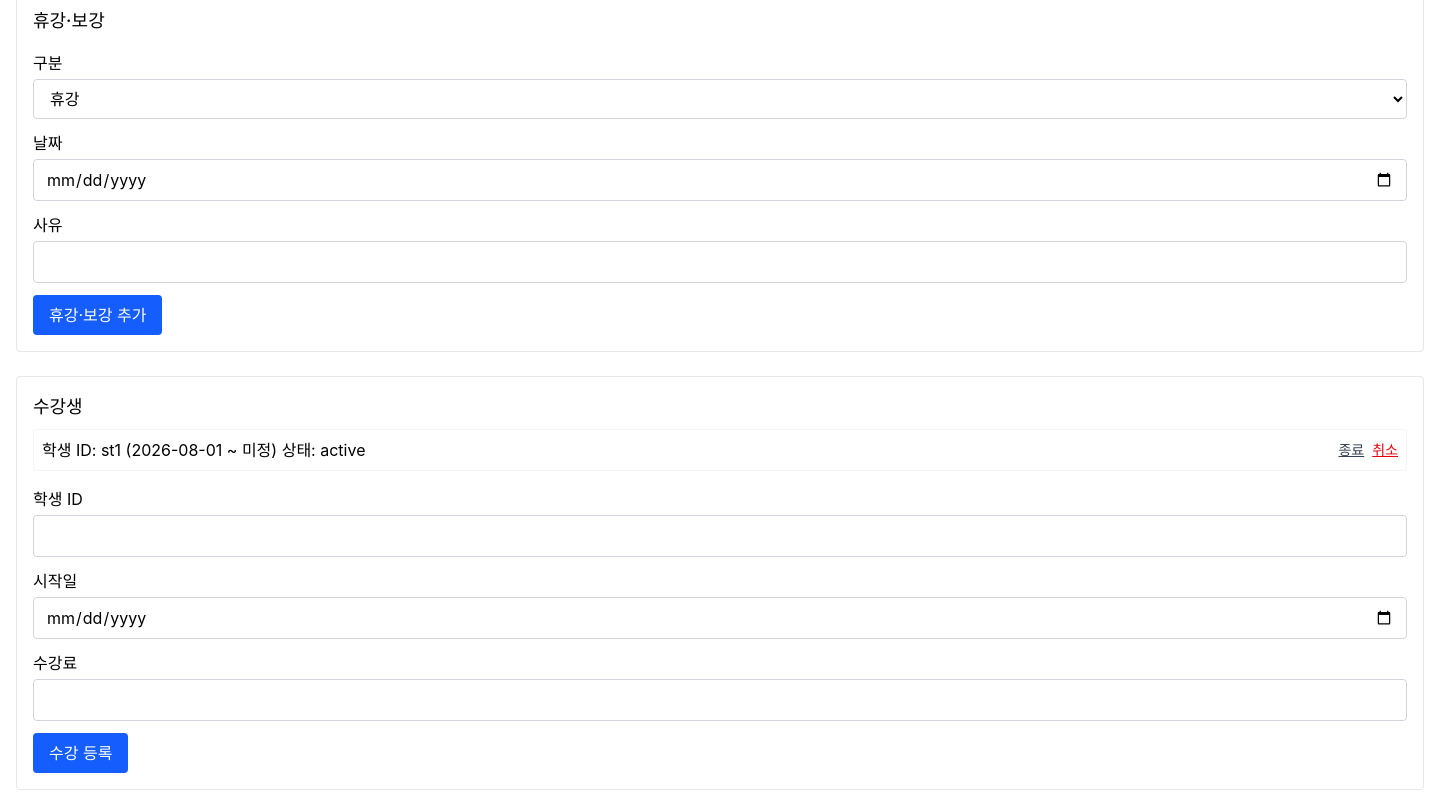
Test: CourseDetailPage › shows a PERIOD_OVERLAP conflict and resubmits with confirmOverlap on 그래도 등록
(page scrolled)
Type "st2" into the field labelled "학생 ID" at (720, 536), box [33, 515, 1407, 557]
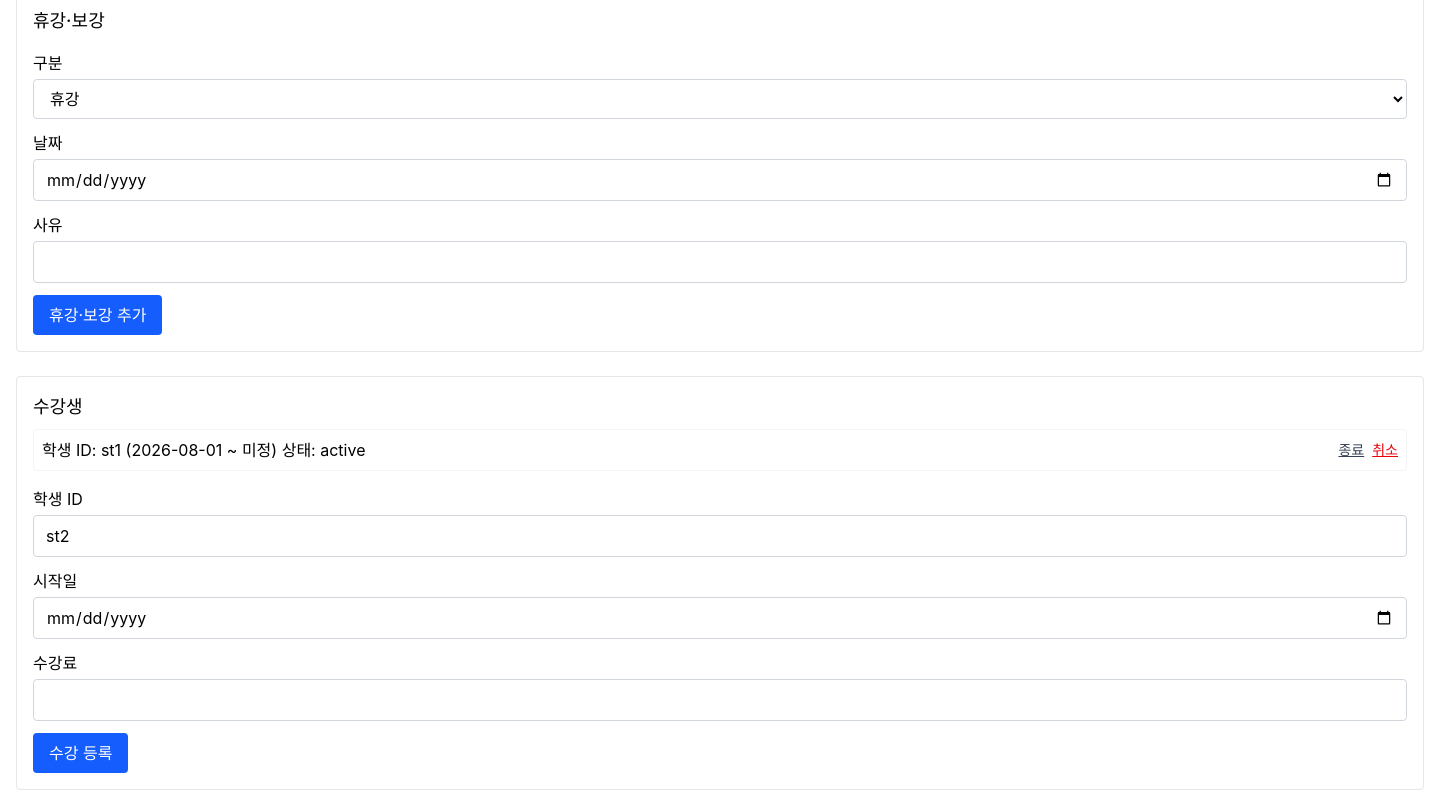
Type "2026-09-01" into the date field labelled "시작일" at (720, 618), box [33, 597, 1407, 639]
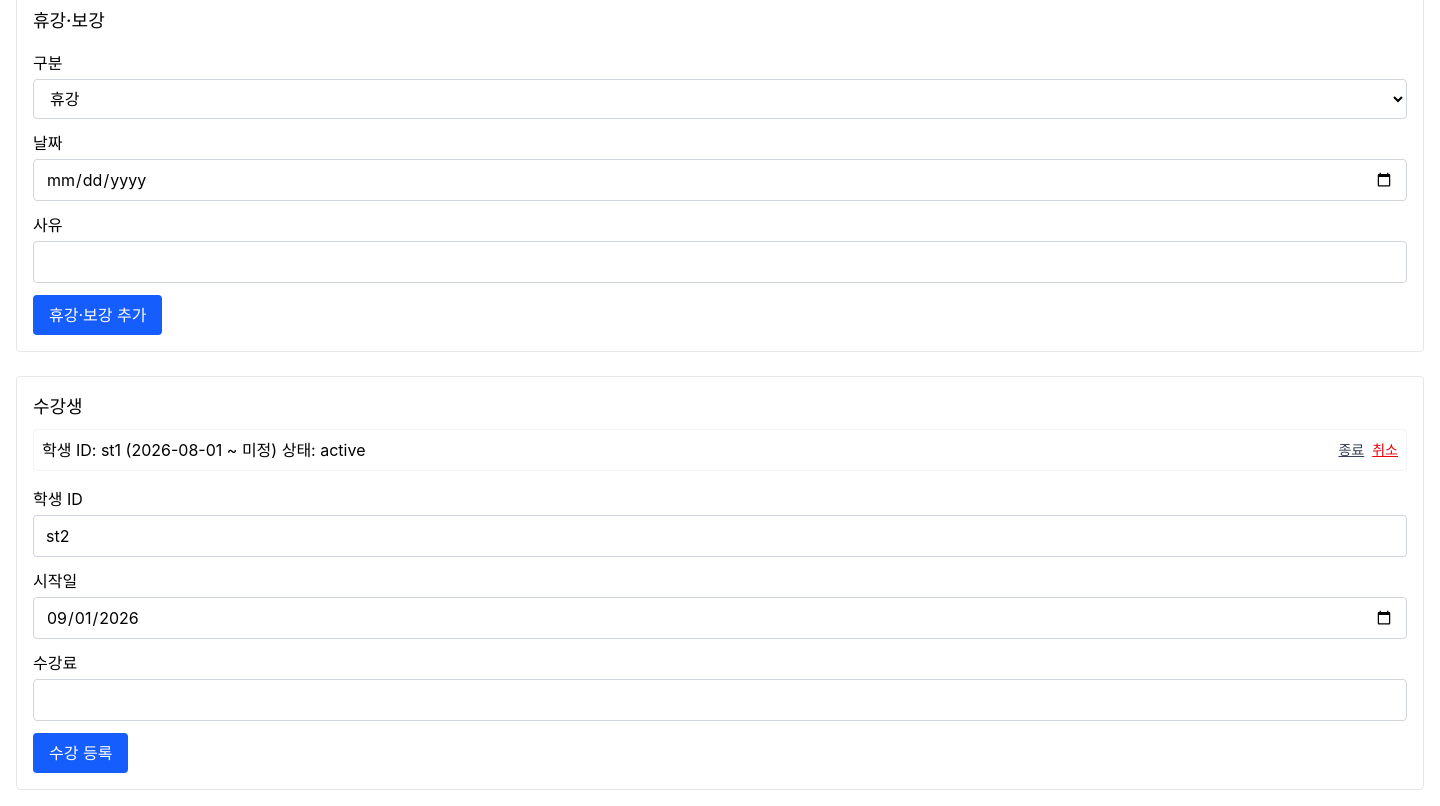
Type "150000" into the field labelled "수강료" at (720, 700), box [33, 679, 1407, 721]
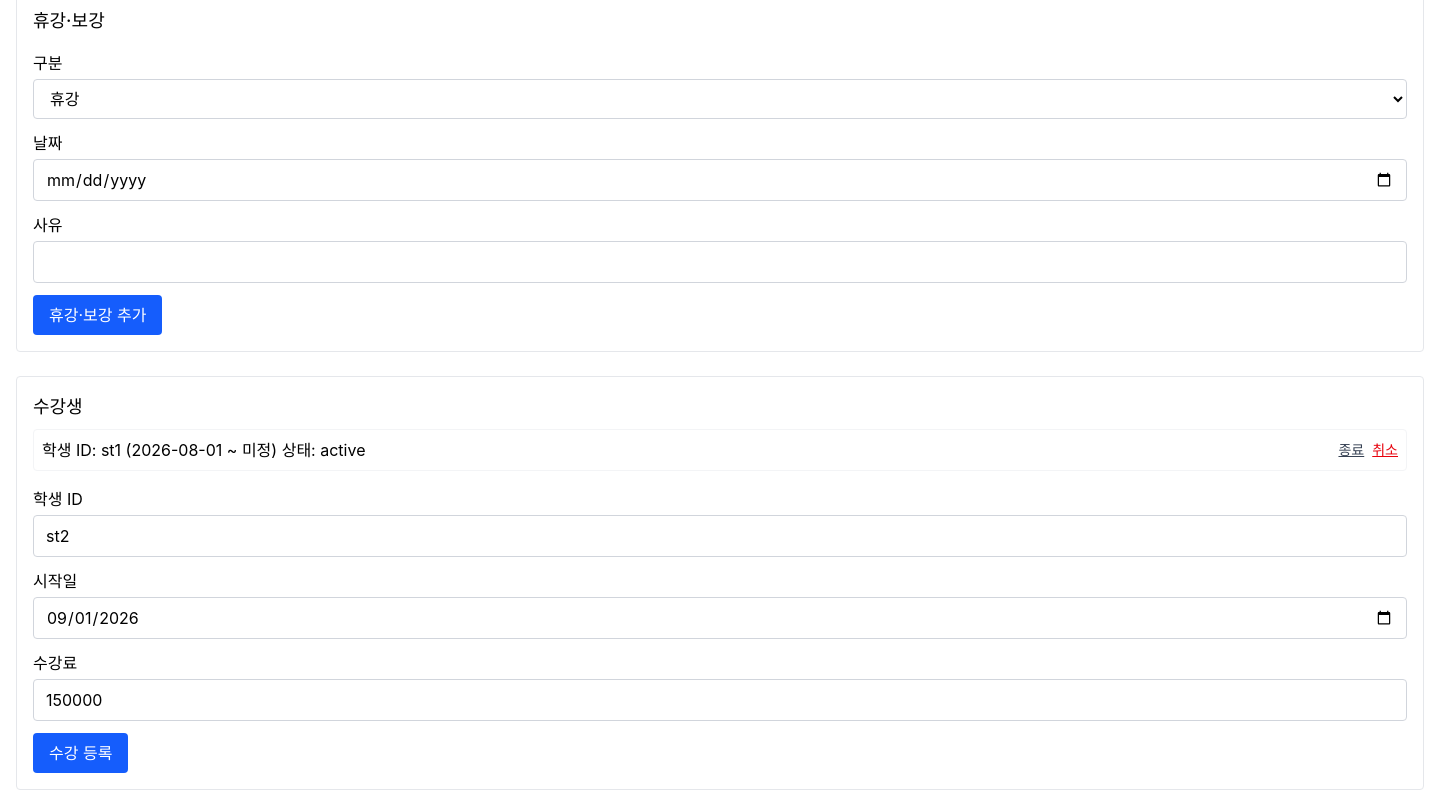
Click the button "수강 등록" at (81, 753), box [33, 733, 128, 773]
(page scrolled)
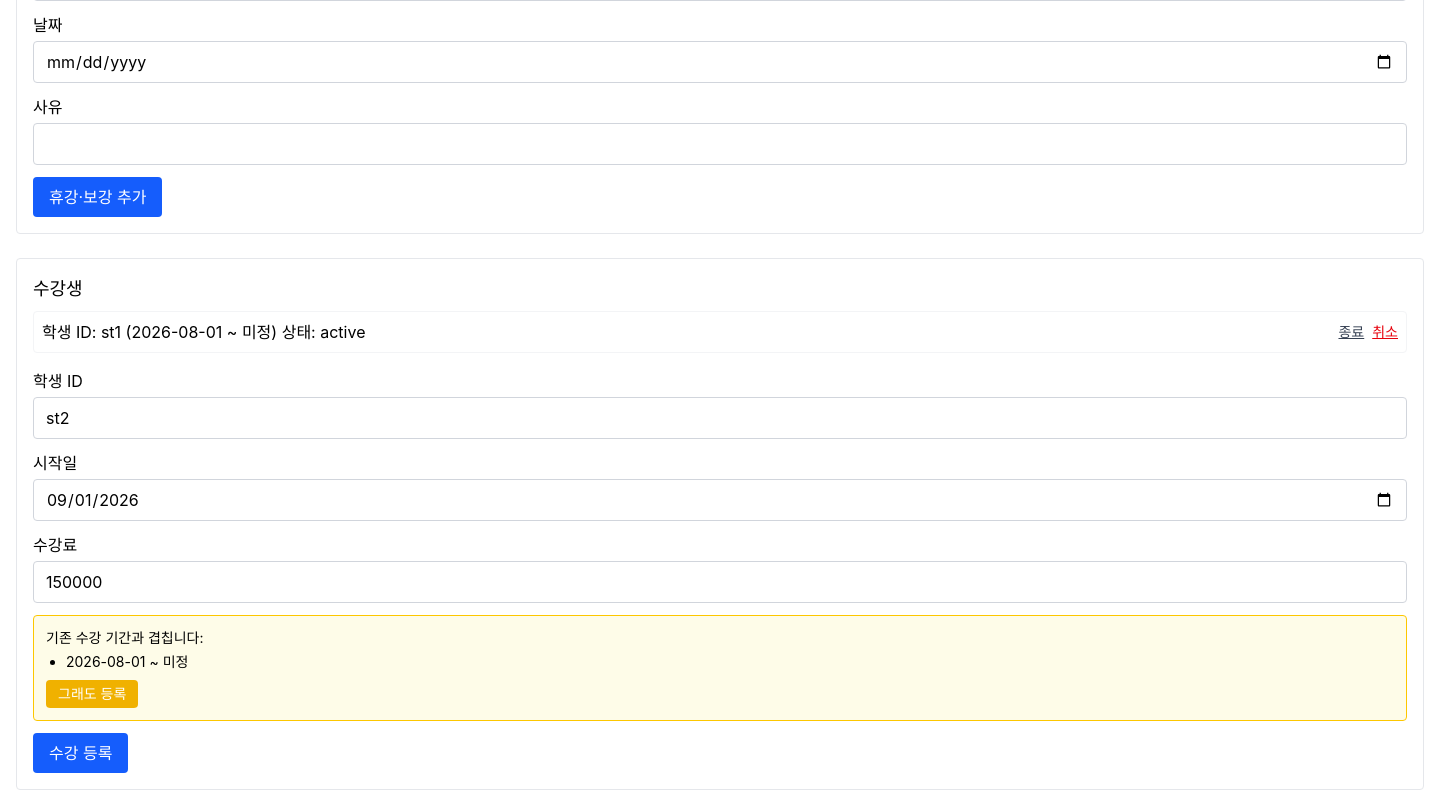
Check: the button "그래도 등록" is shown
Click the button "그래도 등록" at (92, 694), box [46, 680, 138, 708]
(page scrolled)
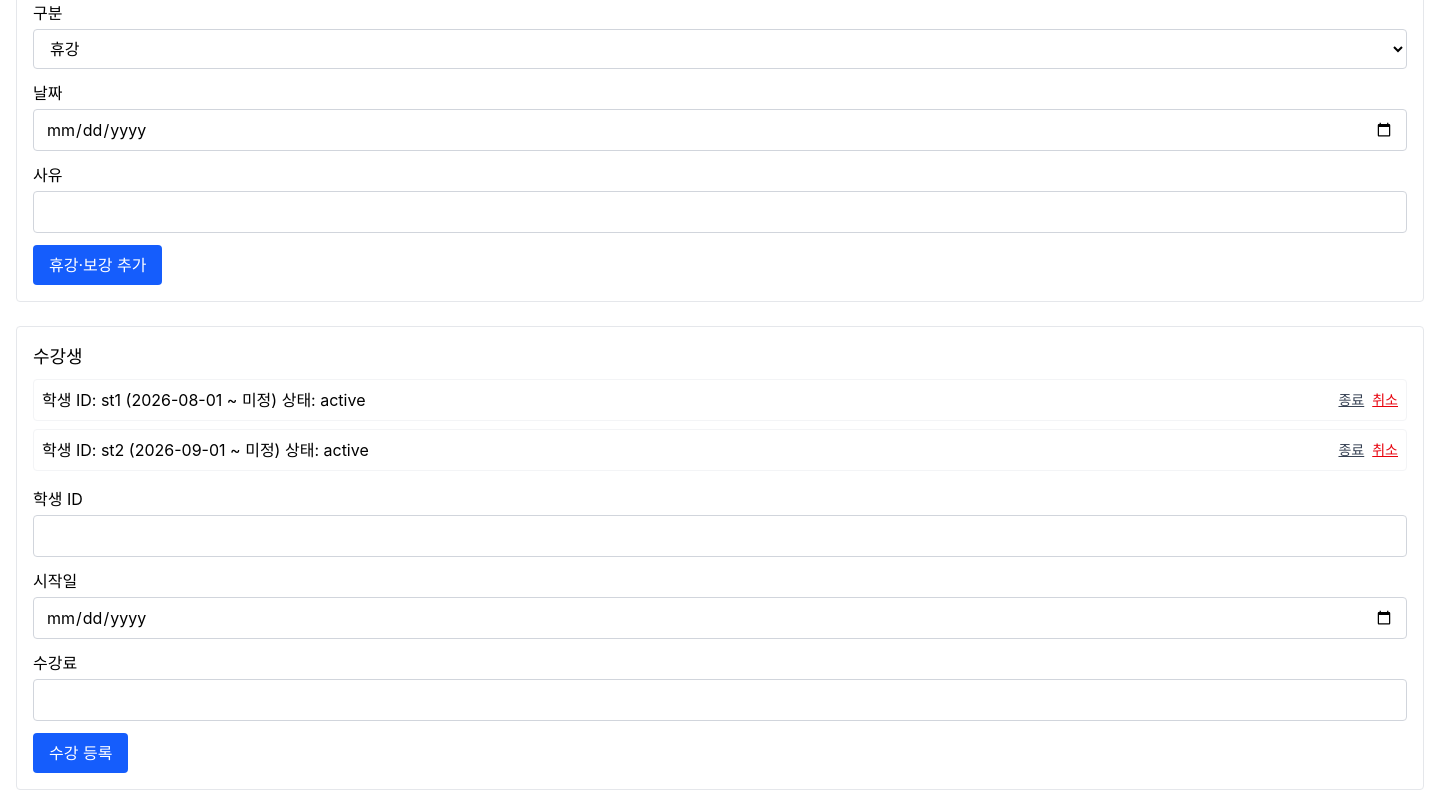
Check: the text "학생 ID: st2 (2026-09-01 ~ 미정) 상태: active" is shown, box [42, 438, 369, 462]
